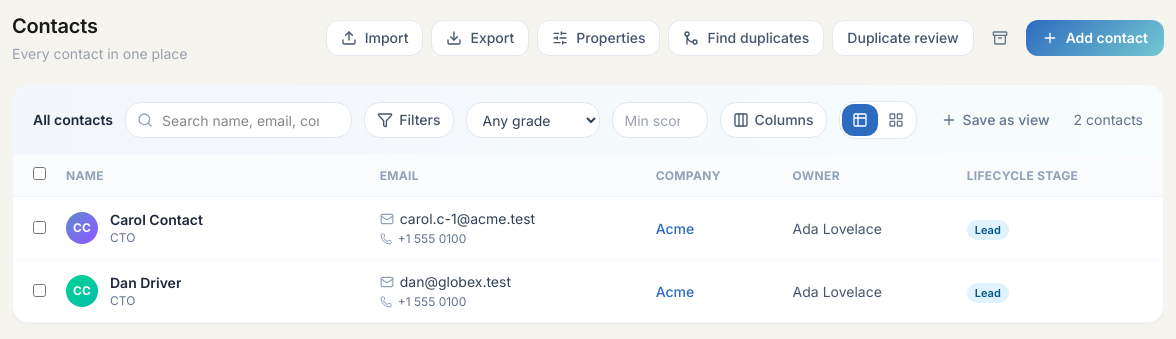
Scenario: Contacts page › searches on the server
Expected: the text "Carol Contact" is shown, [110,210,203,230]
Step 1. Type "dan" into the field with placeholder "Search name, email, company or phone…" → (239, 120), box [125,102,352,138]
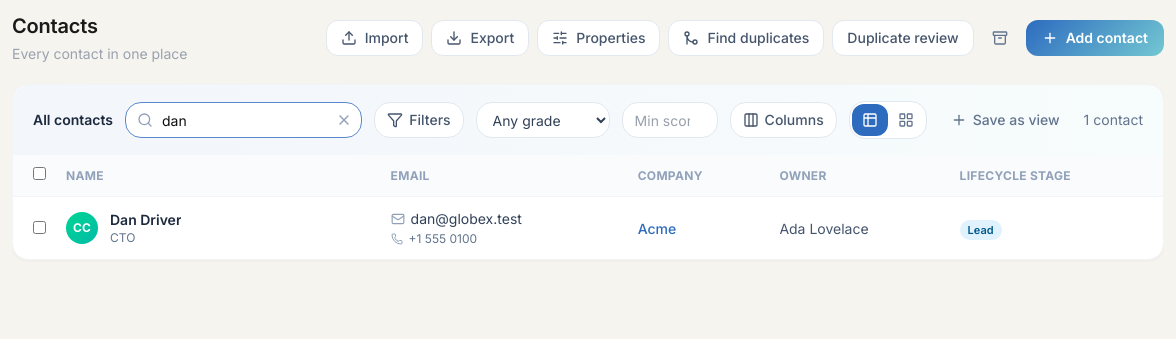
Expected: the text "Dan Driver" is shown, [110,210,182,230]
Now the text "Carol Contact" is gone
